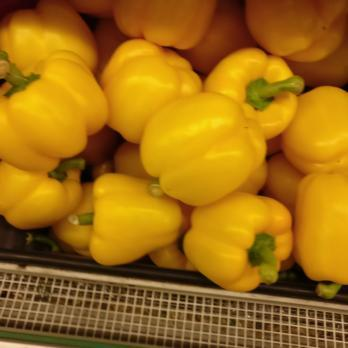Capsicum: (1, 3, 348, 250), (154, 190, 348, 288)
